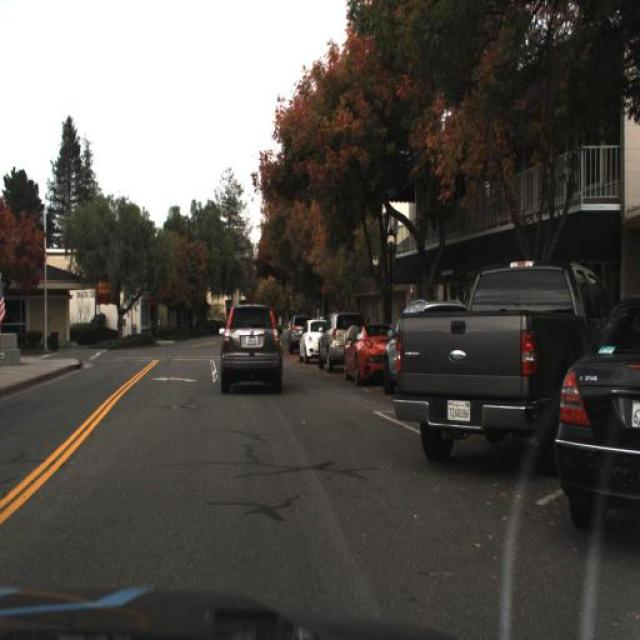car: (387, 250, 552, 474), (552, 286, 640, 536), (212, 298, 286, 400), (336, 321, 390, 388), (315, 305, 349, 375), (295, 316, 325, 368)
